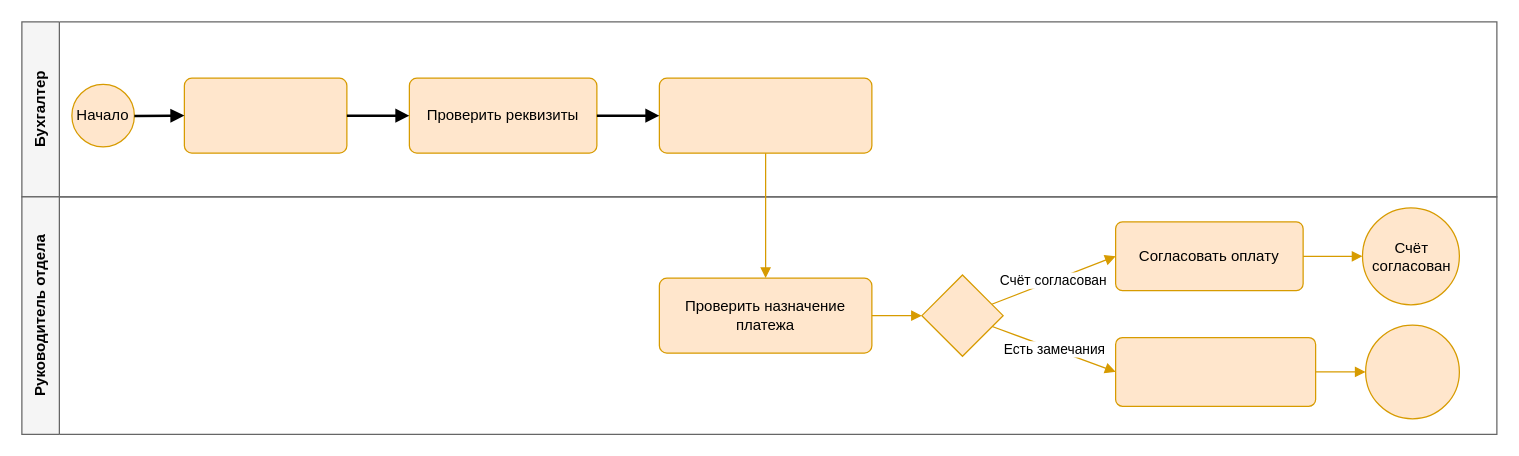
Some shapes in this 1519 by 456 pixel diagram are drawn without their labels. The shapes that lost their labels are listed below. From the top down, each one's centre as x and y in pixels, then its label:
At (265,115): "Получить счёт".
At (765,115): "Передать счёт на согласование".
At (1215,371): "Вернуть счёт на доработку".
At (1411,371): "Счёт возвращён".
